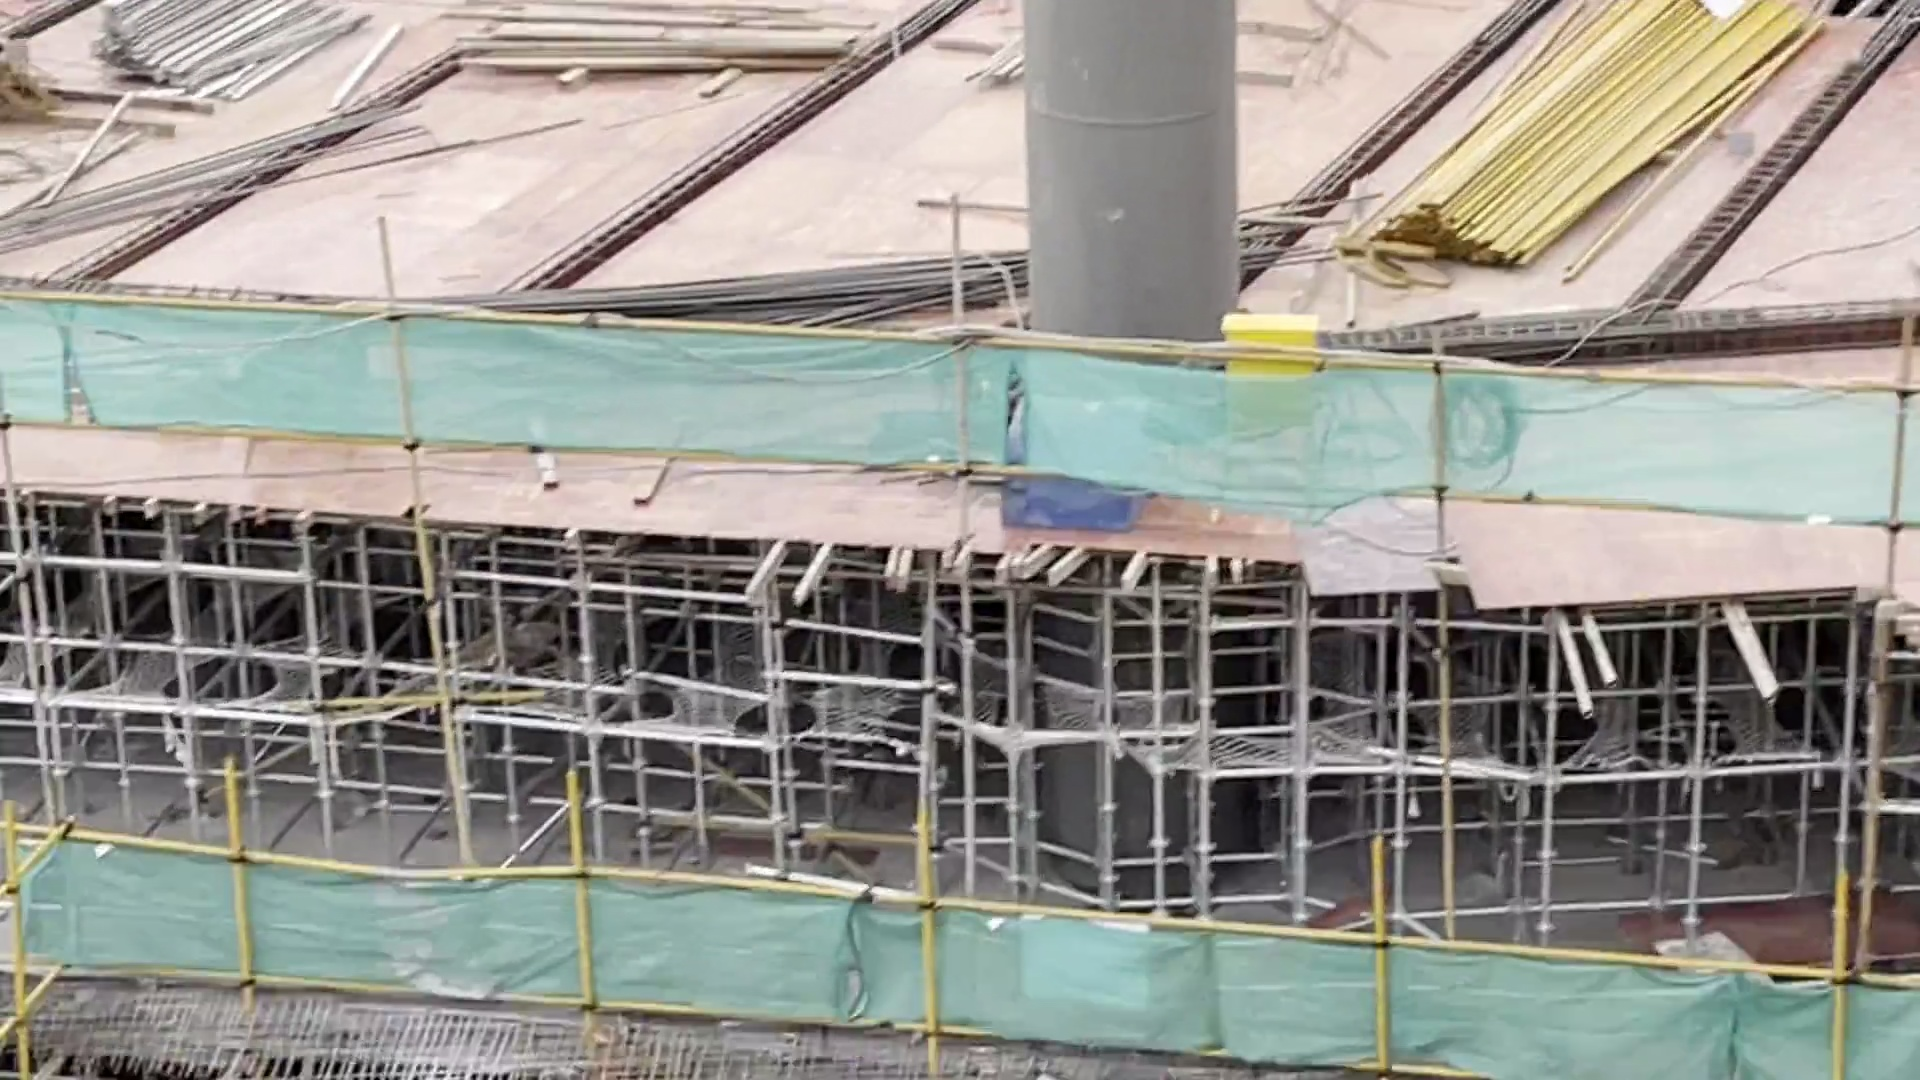ebox: (1220, 309, 1317, 521)
wood: (451, 1, 889, 94), (87, 1, 375, 108)
